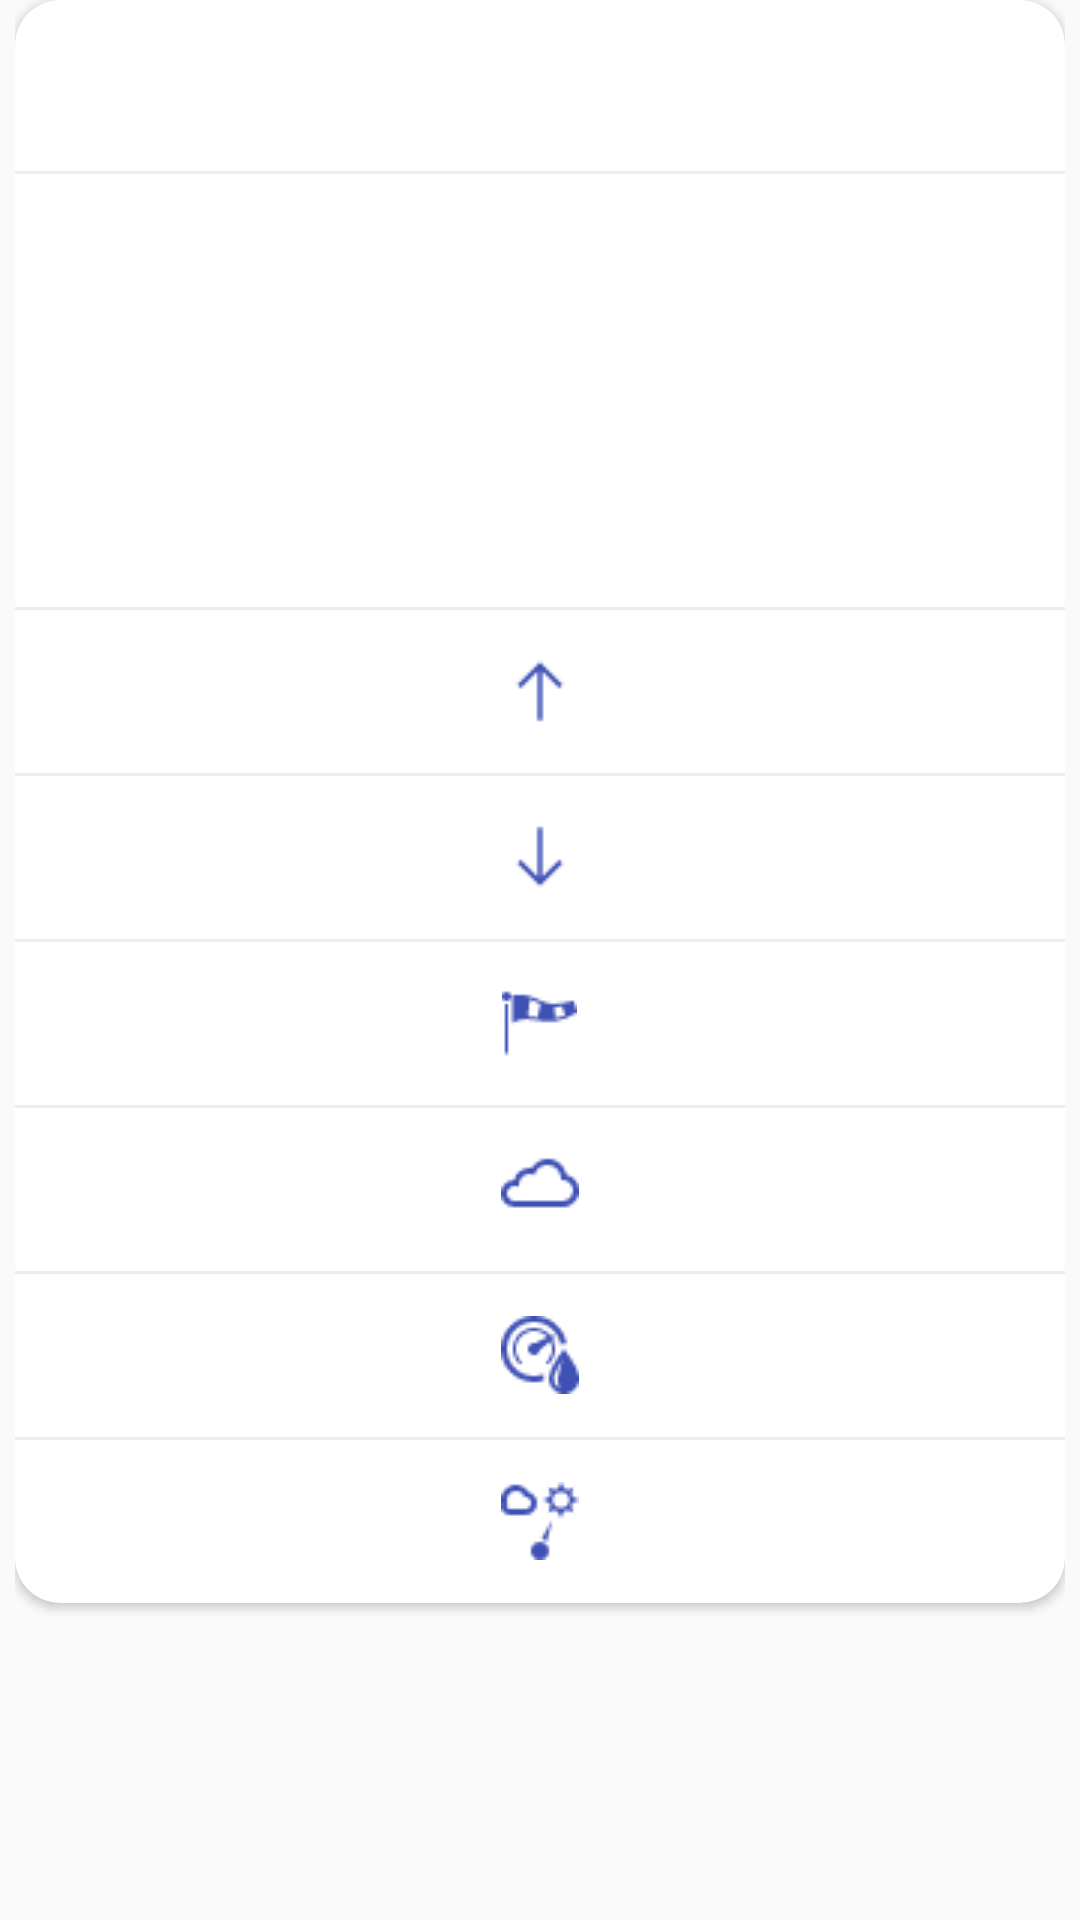

Icons on this 1080x1920 Android screen, each with its box as (x1, y1, x2, y2):
clouds: (501, 1158, 579, 1208)
humidity: (501, 1316, 579, 1394)
wind speed: (502, 991, 577, 1056)
